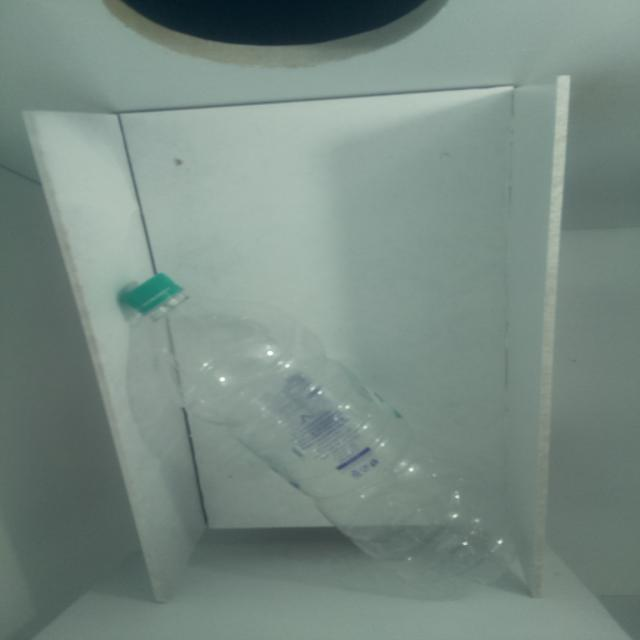good: (88, 226, 530, 620)
